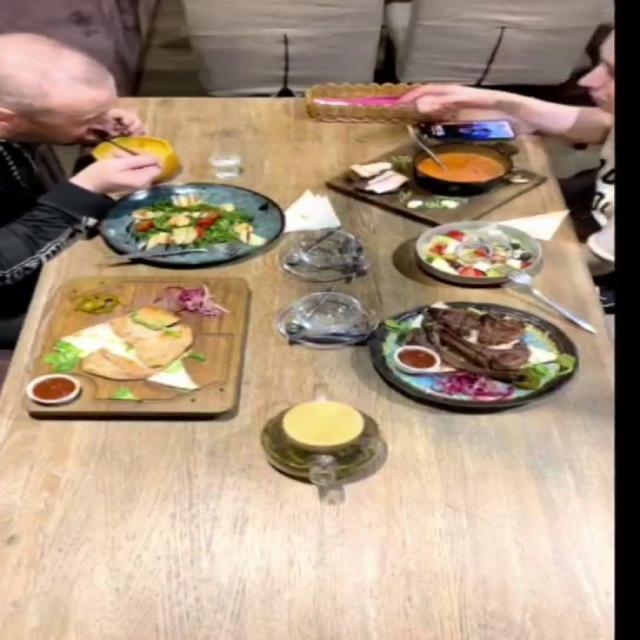alcohol: (204, 137, 282, 202)
meat: (367, 301, 580, 408)
salat: (96, 182, 282, 265), (413, 220, 543, 284)
soup: (322, 134, 548, 226), (92, 136, 179, 183)
tea: (280, 400, 364, 447)
